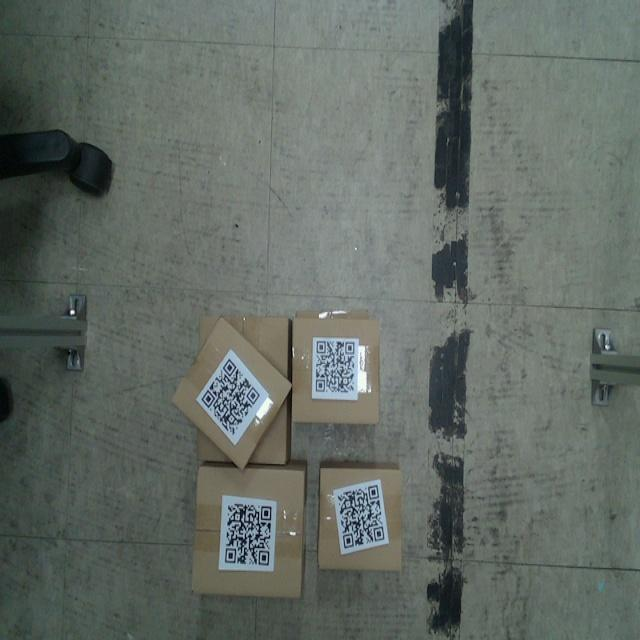box: (167, 317, 296, 475), (192, 463, 308, 602), (292, 318, 382, 426), (317, 463, 403, 573)
